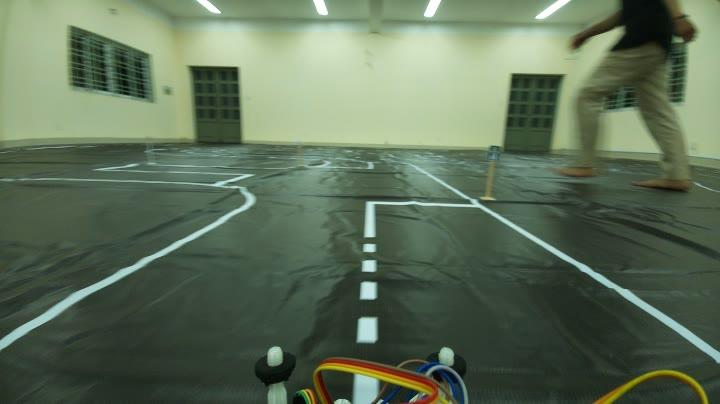highway_exit: (486, 142, 502, 164)
